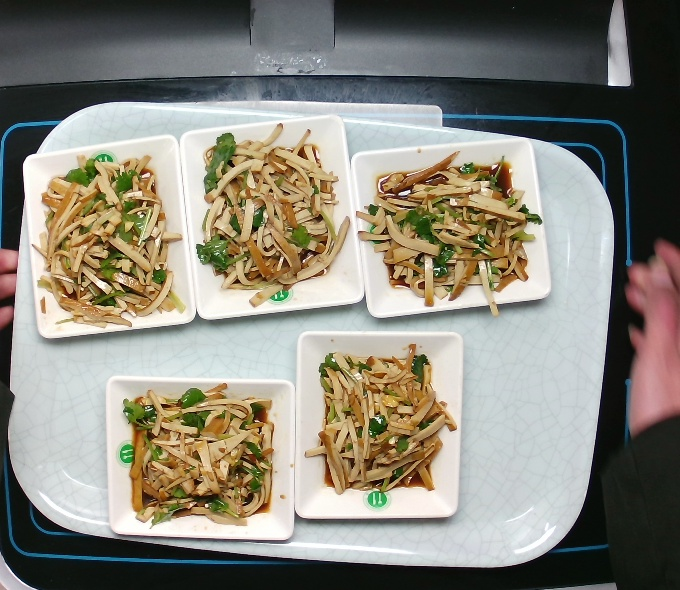wcq-LiangBanDouGan: (353, 152, 548, 315), (29, 146, 188, 339), (191, 121, 354, 309), (120, 380, 280, 528), (303, 346, 463, 494)
